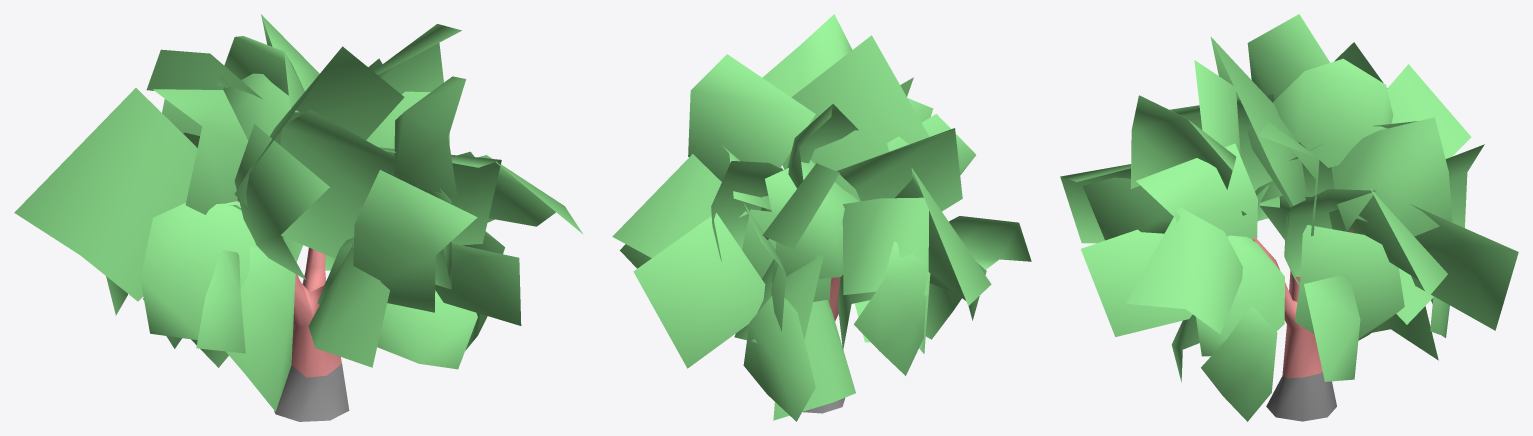
File: Oren_Darkelf_tree05.gltf
3 renders of one model, left to right at view 1: azimuth 30°, elevation 25°; view 2: azimuth 150°, elevation 25°; view 3: azimuth 270°, elevation 25°, orthographic. The views are drawn at different scales.
Parts seen in each view (by area): view 1: Oren_Darkelf_tree05; view 2: Oren_Darkelf_tree05; view 3: Oren_Darkelf_tree05.
Boxes of the visible parts, <box> form: Oren_Darkelf_tree05: <box>14,14,582,421</box>; Oren_Darkelf_tree05: <box>612,14,1031,421</box>; Oren_Darkelf_tree05: <box>1060,14,1518,421</box>.
Size of the model in its own units: 11.12 by 9.3 by 10.67.
